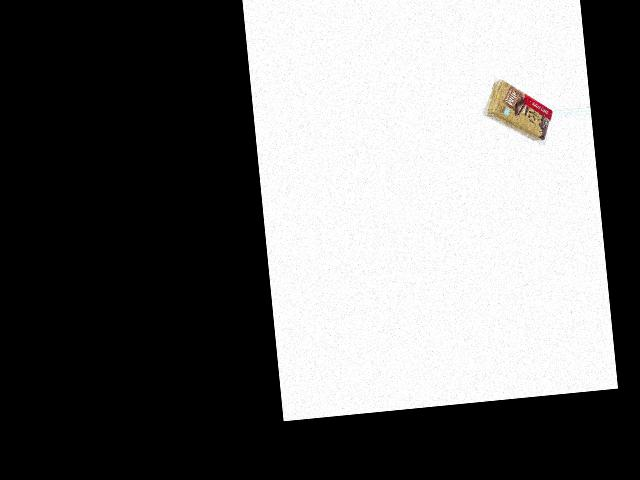chocolate: (480, 66, 554, 146)
